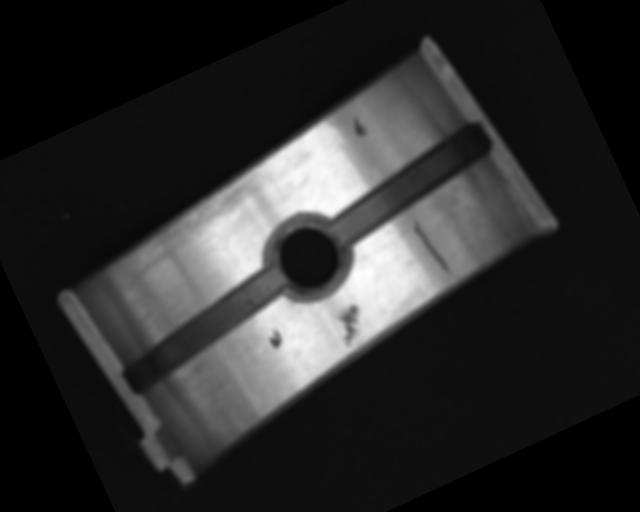blot: (263, 325, 286, 352)
bruise: (330, 302, 371, 348), (349, 113, 369, 139)
gap: (107, 262, 302, 395), (316, 121, 504, 251)
hole: (255, 202, 360, 308)
nick: (410, 215, 454, 284)
scratch: (115, 165, 278, 276)
